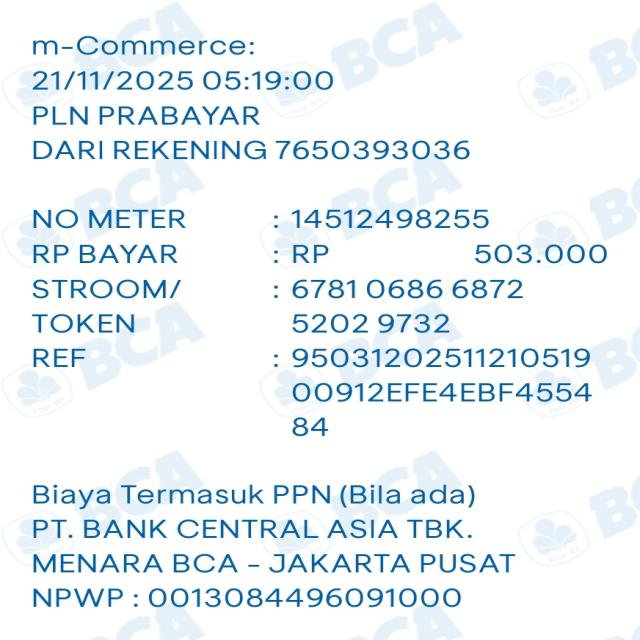date: (28, 67, 343, 100)
store: (27, 101, 270, 132)
total: (289, 238, 620, 270)
